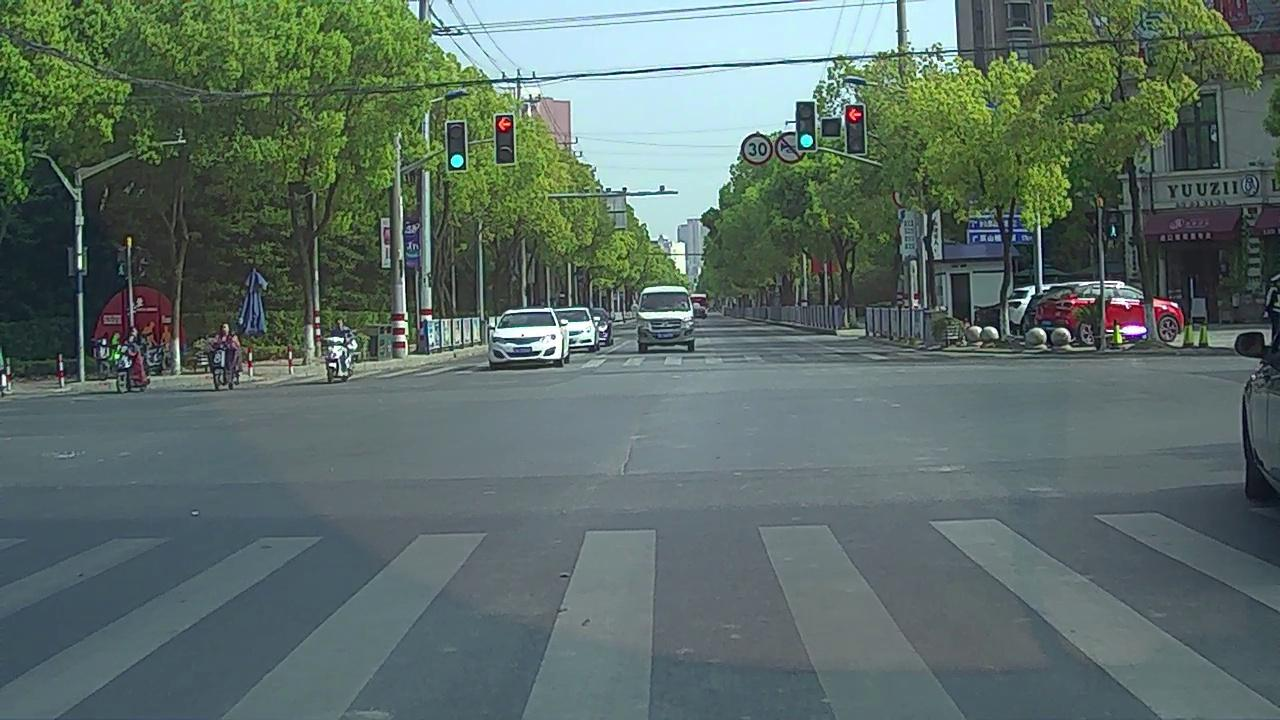traffic_light: (846, 103, 865, 155), (447, 123, 466, 171), (798, 103, 816, 153), (497, 116, 515, 164)
